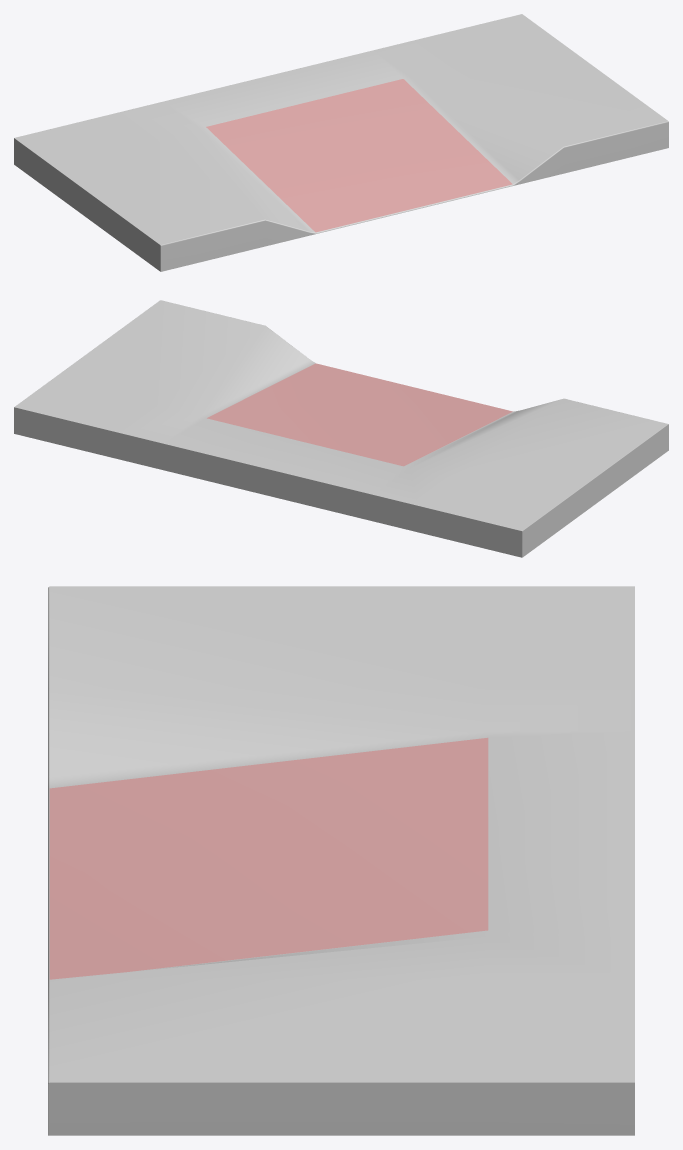
Rendered from pedestrianRampSingle.fbx.
The picture shows the model from 3 angles, top to bottom: view 1: azimuth 30°, elevation 25°; view 2: azimuth 150°, elevation 25°; view 3: azimuth 270°, elevation 25°; orthographic projection. The views are drawn at different scales.
Visible parts, largest first — view 1: pedestrianRampSingle_geo; view 2: pedestrianRampSingle_geo; view 3: pedestrianRampSingle_geo.
Boxes of the visible parts, bbox=[...] form: pedestrianRampSingle_geo: bbox=[14, 14, 668, 271]; pedestrianRampSingle_geo: bbox=[14, 300, 668, 557]; pedestrianRampSingle_geo: bbox=[48, 586, 634, 1135].
Bounding box in the file's own units: 400 × 20 × 200.
